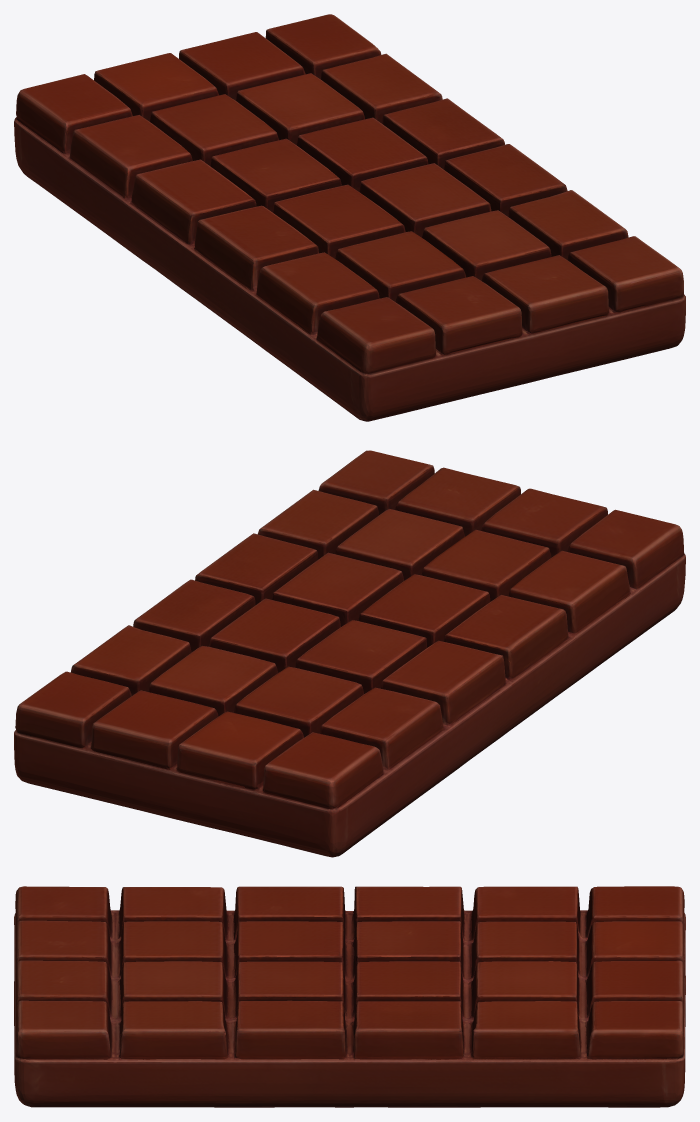
File: chocolate.glb
The picture shows the model from 3 angles, top to bottom: view 1: azimuth 30°, elevation 25°; view 2: azimuth 150°, elevation 25°; view 3: azimuth 270°, elevation 25°; orthographic projection. The views are drawn at different scales.
Parts seen in each view (by area): view 1: world; view 2: world; view 3: world.
Boxes of the visible parts, bbox=[...] form: world: bbox=[14, 14, 685, 421]; world: bbox=[14, 450, 685, 857]; world: bbox=[14, 886, 685, 1107].
Bounding box in the file's own units: 0.5336 × 0.1323 × 0.9975.
Materials: 1 (1 with a texture image).
